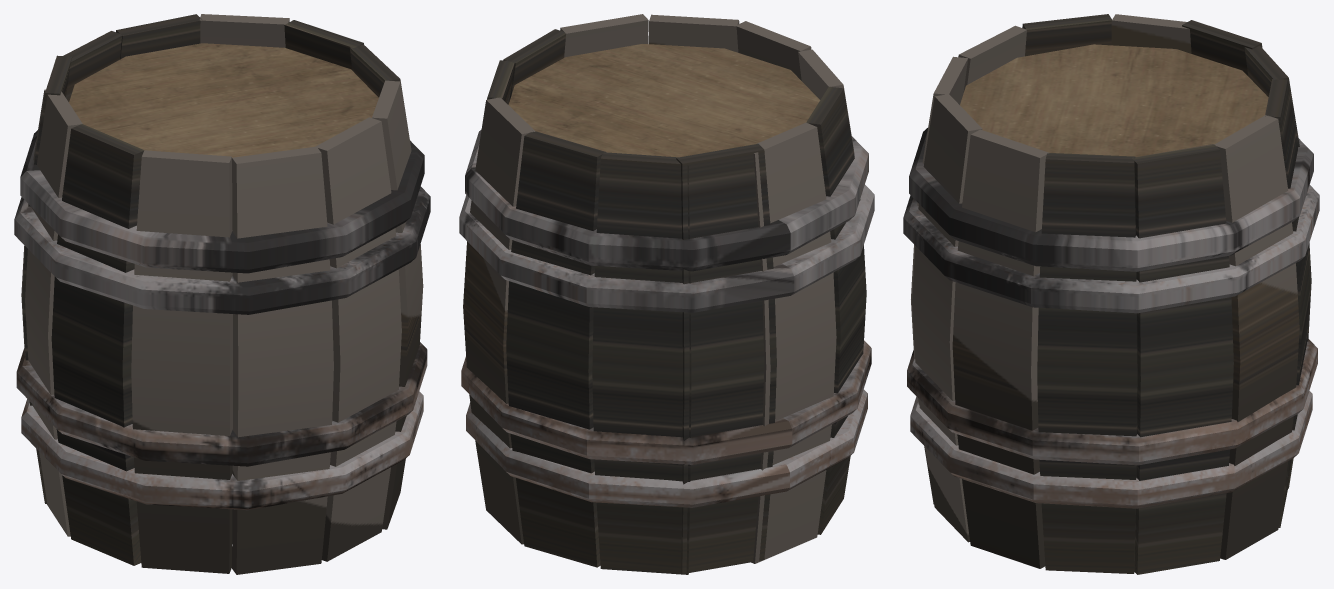
The model's file is BARREL_NEW.fbx.
The picture shows the model from 3 angles, left to right: view 1: azimuth 30°, elevation 25°; view 2: azimuth 150°, elevation 25°; view 3: azimuth 270°, elevation 25°; orthographic projection.
Parts seen in each view (by area): view 1: polySurface5, polySurface4, WOOD_inside, polySurface3, polySurface6, pCylinder14, pCylinder18, pCylinder20, pCylinder19, polySurface1, polySurface7, polySurface10 (+5 smaller); view 2: polySurface12, WOOD_inside, polySurface2, polySurface11, polySurface1, pCylinder14, pCylinder18, polySurface10, pCylinder20, pCylinder19, polySurface3, polySurface6 (+5 smaller); view 3: polySurface8, polySurface9, WOOD_inside, polySurface7, polySurface10, pCylinder14, pCylinder18, pCylinder20, pCylinder19, polySurface6, polySurface11, polySurface3 (+5 smaller).
Boxes of the visible parts, x1,y1,x2,y2 form: polySurface5: (232, 146, 333, 574); polySurface4: (131, 150, 232, 573); WOOD_inside: (69, 43, 378, 157); polySurface3: (51, 124, 144, 565); polySurface6: (316, 117, 401, 561); pCylinder14: (20, 130, 424, 273); pCylinder18: (14, 186, 430, 314); pCylinder20: (16, 342, 427, 466); pCylinder19: (21, 391, 423, 510); polySurface1: (21, 89, 82, 536); polySurface7: (372, 80, 423, 529); polySurface10: (199, 14, 289, 47); polySurface12: (592, 152, 691, 574); WOOD_inside: (508, 44, 820, 157); polySurface2: (676, 143, 776, 574); polySurface11: (506, 131, 605, 567); polySurface1: (751, 122, 836, 563); pCylinder14: (465, 129, 868, 271); pCylinder18: (459, 185, 874, 312); polySurface10: (463, 97, 535, 544); pCylinder20: (461, 340, 871, 464); pCylinder19: (466, 389, 867, 507); polySurface3: (806, 86, 866, 534); polySurface6: (648, 14, 739, 52); polySurface8: (1037, 153, 1137, 573); polySurface9: (1132, 144, 1233, 574); WOOD_inside: (960, 44, 1268, 156); polySurface7: (952, 129, 1049, 568); polySurface10: (1214, 115, 1299, 559); pCylinder14: (909, 128, 1313, 271); pCylinder18: (903, 185, 1319, 313); pCylinder20: (907, 339, 1317, 465); pCylinder19: (910, 391, 1312, 508); polySurface6: (912, 94, 982, 542); polySurface11: (1265, 79, 1310, 527); polySurface3: (1022, 14, 1111, 56).
Bounding box in the file's own units: 2.69 × 2.95 × 2.69.
